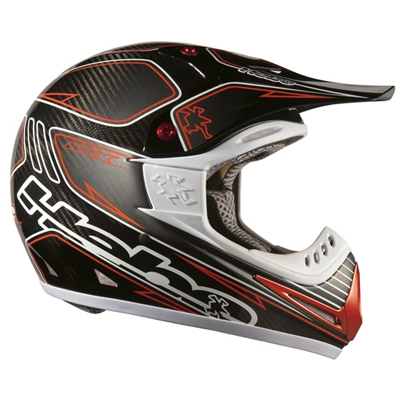helmet: (24, 55, 366, 352)
